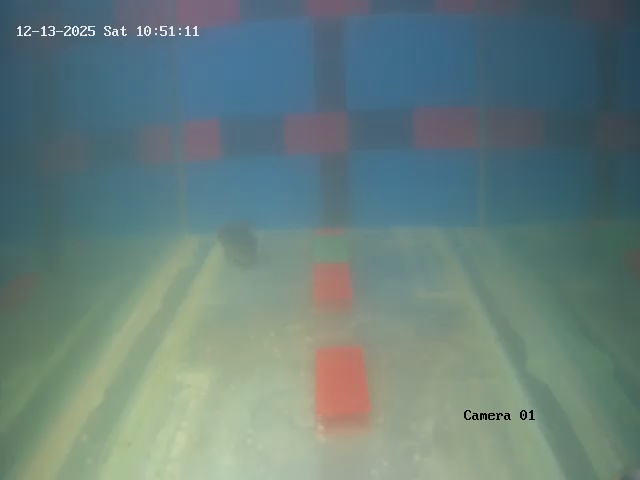fish: (210, 216, 268, 268)
